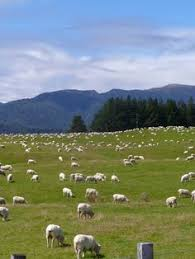sheep: (72, 233, 102, 259), (43, 222, 67, 249), (76, 201, 96, 219), (111, 191, 130, 205), (164, 195, 178, 209), (61, 186, 74, 199), (85, 187, 99, 199), (12, 195, 28, 205), (1, 205, 10, 221), (179, 172, 190, 185), (111, 174, 122, 186), (178, 187, 190, 198), (57, 171, 68, 183), (85, 174, 96, 184), (186, 153, 195, 165), (30, 173, 40, 183), (95, 173, 105, 183), (6, 173, 14, 184), (28, 157, 37, 166), (123, 160, 133, 168), (70, 161, 80, 168)
